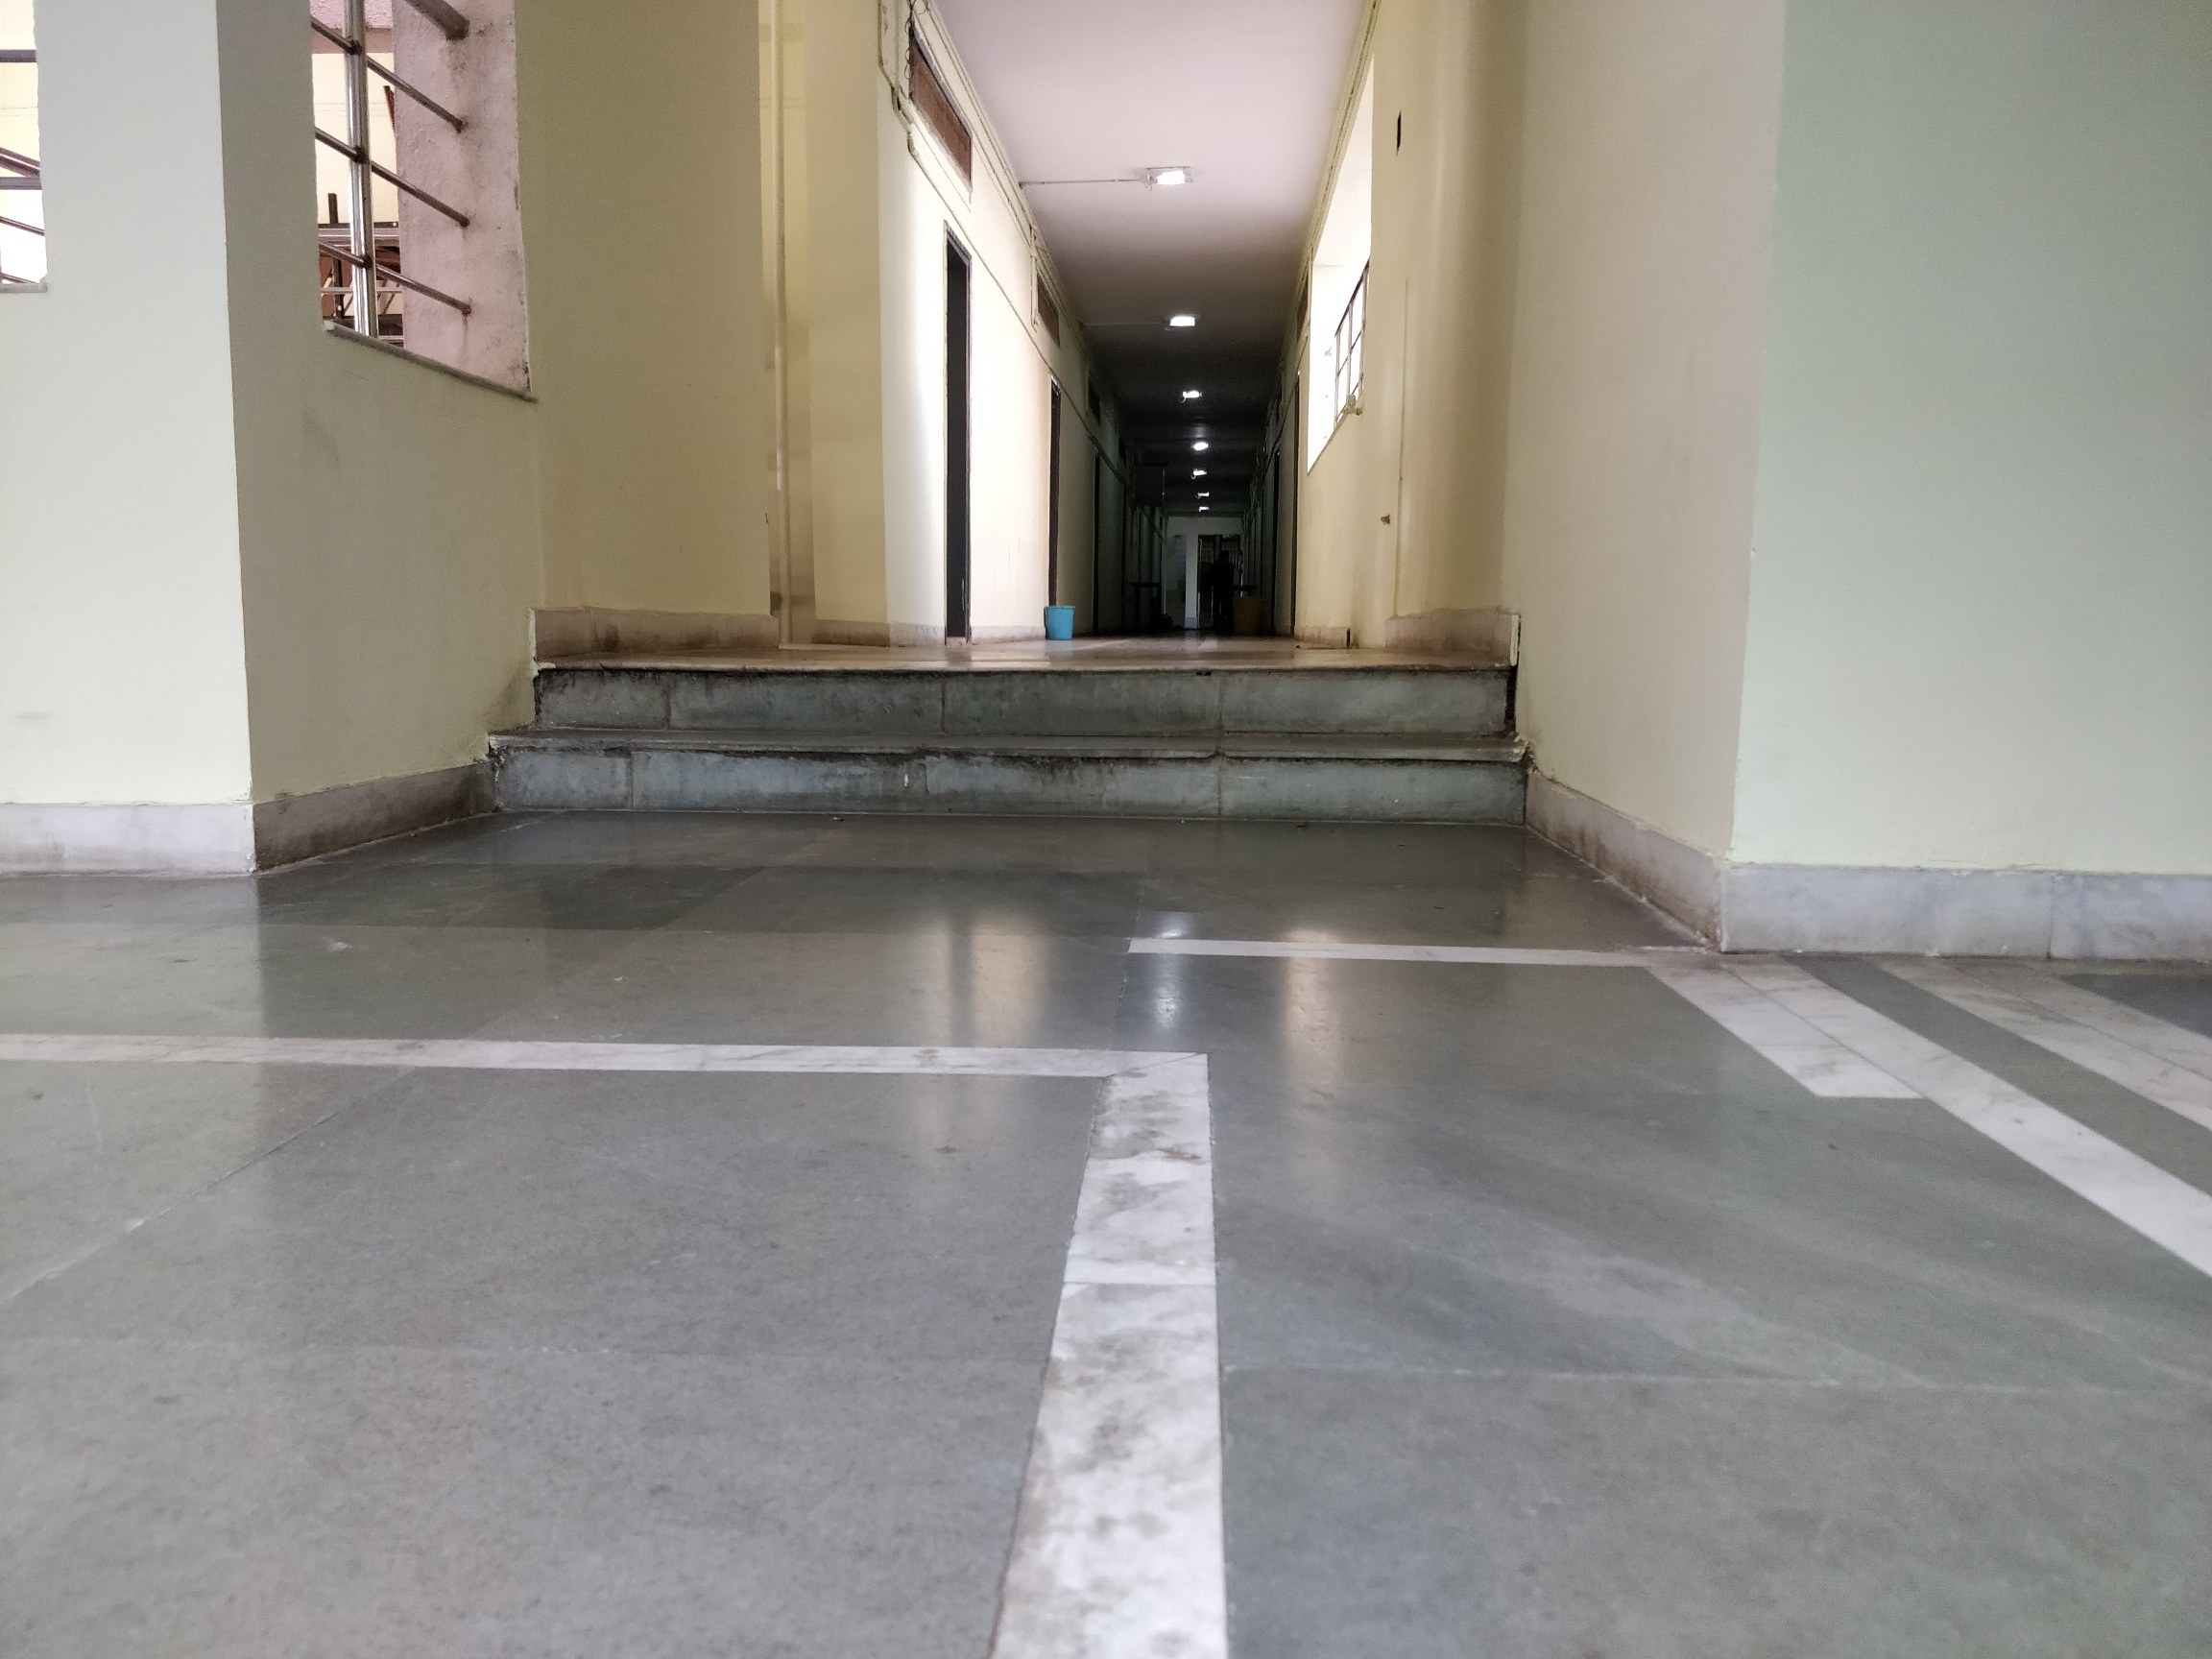stairs_up: (475, 667, 1534, 810)
